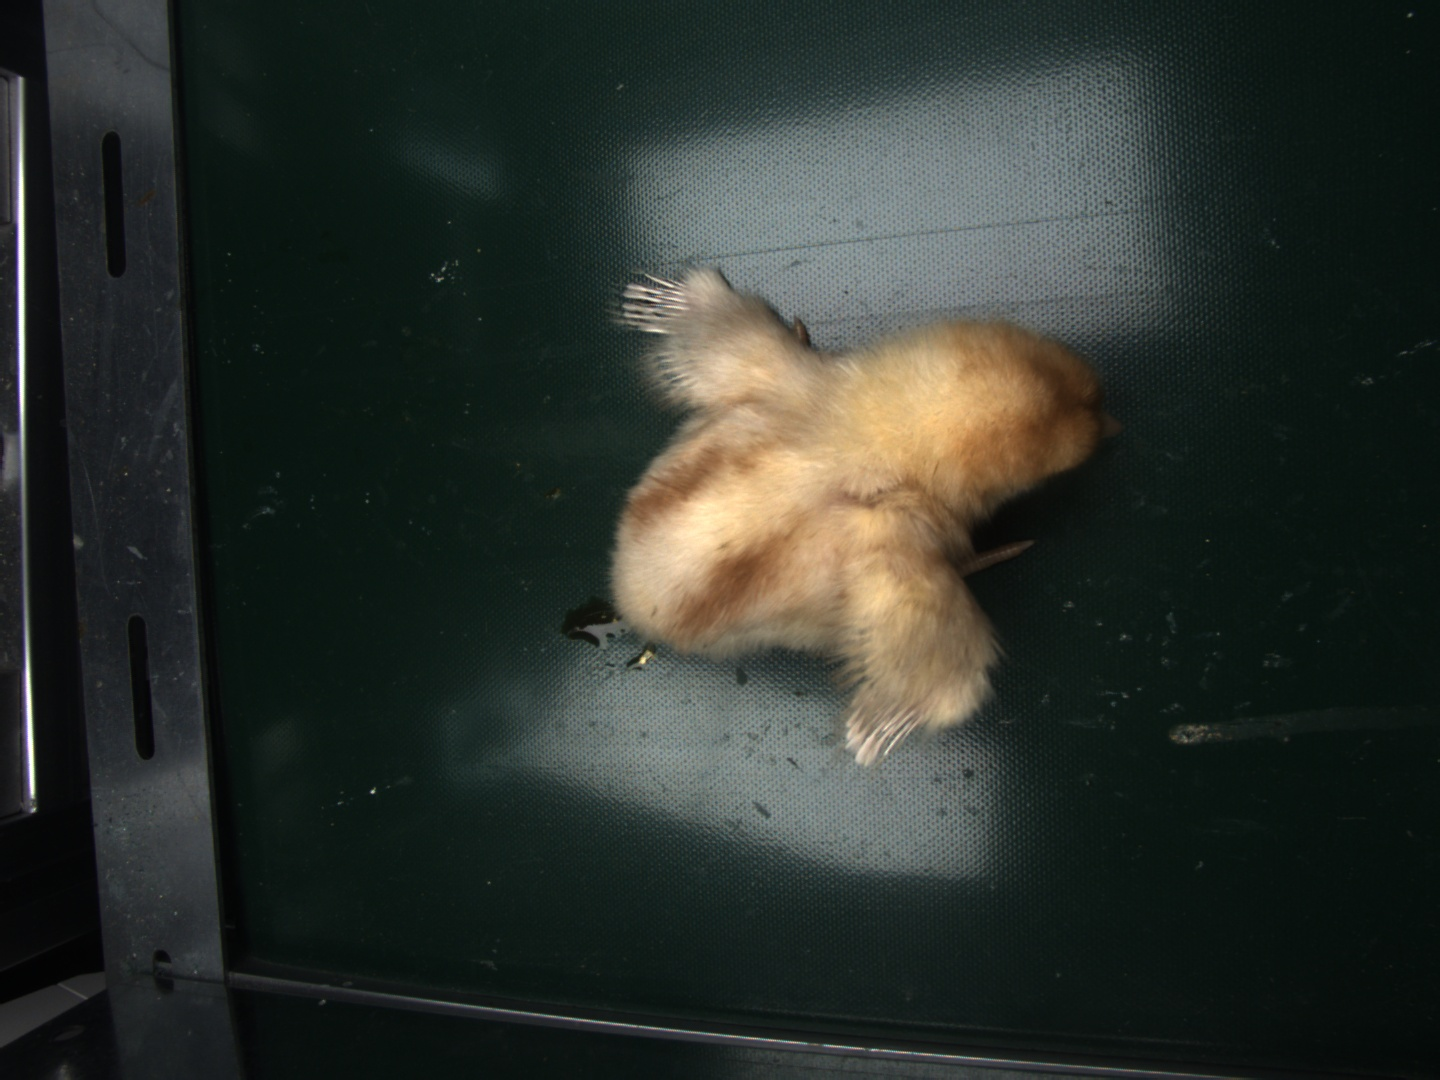female: (615, 268, 691, 336)
